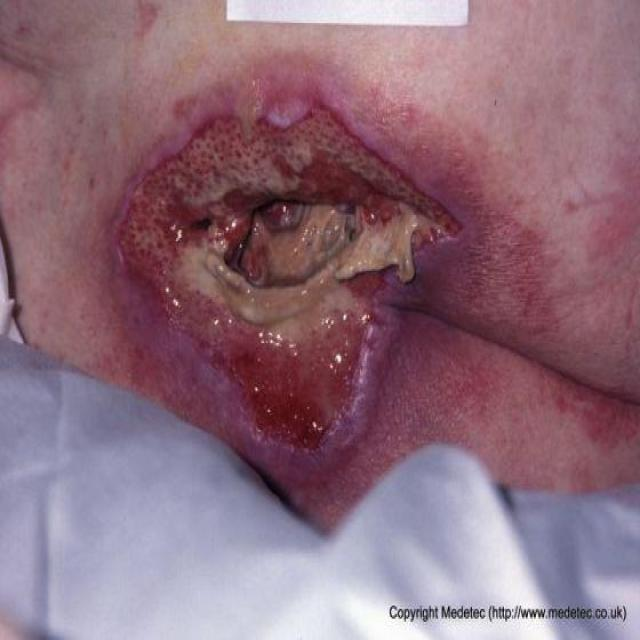stage-4: (120, 111, 458, 446)
